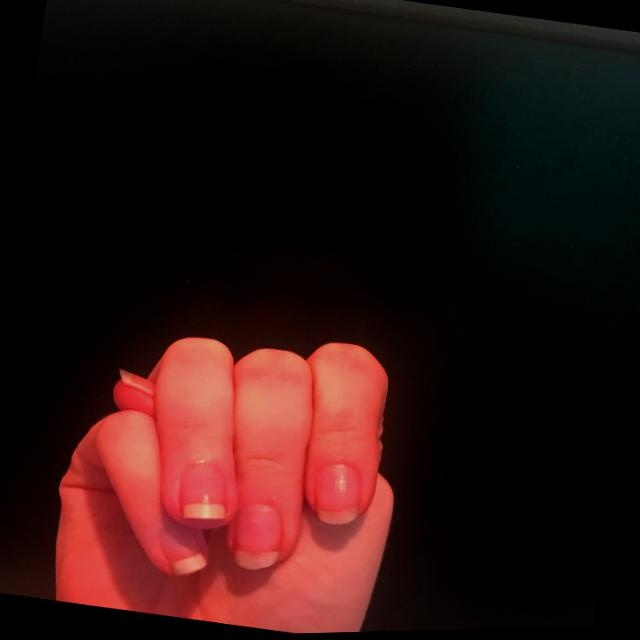M: (26, 292, 436, 639)
